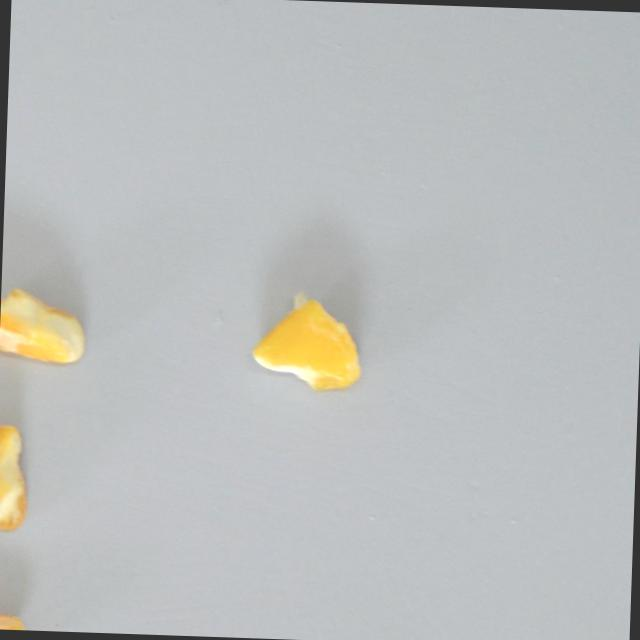dañado: (245, 287, 370, 392), (0, 284, 91, 366), (0, 417, 35, 536), (0, 602, 32, 630)
